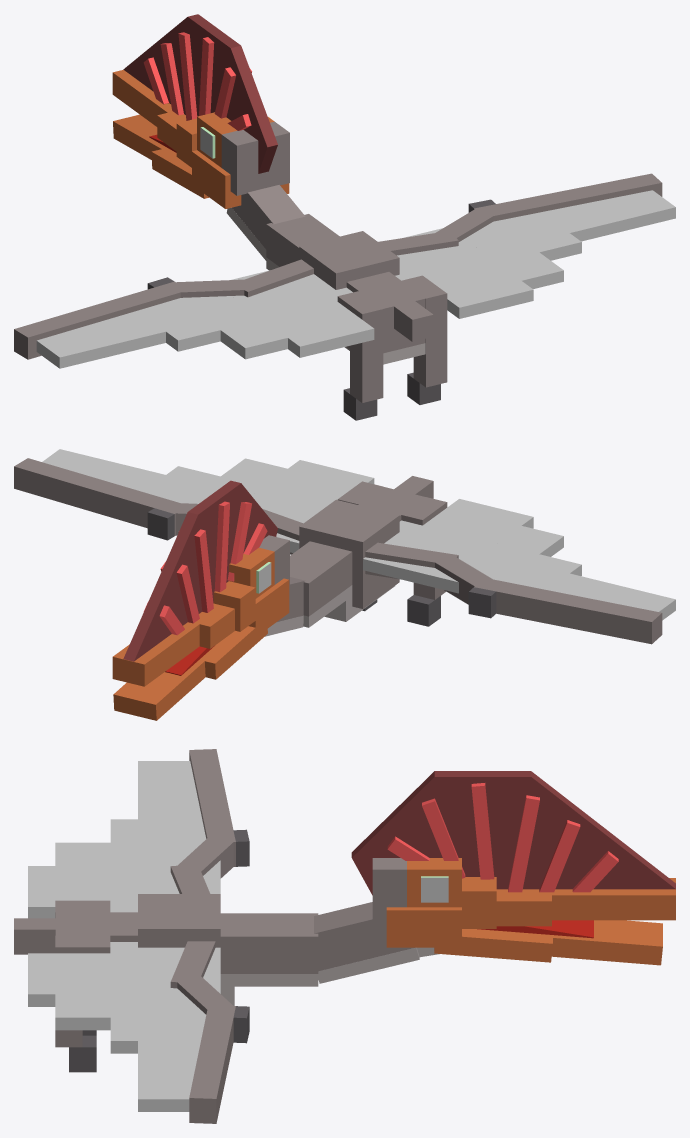
Rendered from azhdarcho.obj.
3 renders of one model, top to bottom at view 1: azimuth 30°, elevation 25°; view 2: azimuth 150°, elevation 25°; view 3: azimuth 270°, elevation 25°, orthographic. The views are drawn at different scales.
Parts seen in each view (by area): view 1: Head, LeftUpperArm, RightUpperArm, LeftUpperLeg, UpperTorso, RightUpperLeg, LowerTorso, Tail; view 2: Head, LeftUpperArm, RightUpperArm, UpperTorso, LeftUpperLeg, LowerTorso, RightUpperLeg, Tail; view 3: Head, RightUpperArm, LeftUpperArm, UpperTorso, RightUpperLeg, LowerTorso, Tail, LeftUpperLeg, Head_decal1.
Part boxes in pixels (x1=…): Head: x1=112, y1=14, x2=339, y2=270; LeftUpperArm: x1=14, y1=259, x2=374, y2=368; RightUpperArm: x1=378, y1=173, x2=675, y2=318; LeftUpperLeg: x1=337, y1=291, x2=383, y2=420; UpperTorso: x1=299, y1=231, x2=399, y2=350; RightUpperLeg: x1=402, y1=275, x2=447, y2=404; LowerTorso: x1=346, y1=272, x2=425, y2=364; Tail: x1=394, y1=301, x2=433, y2=341; Head: x1=112, y1=480, x2=352, y2=720; LeftUpperArm: x1=363, y1=499, x2=675, y2=644; RightUpperArm: x1=14, y1=449, x2=374, y2=554; UpperTorso: x1=299, y1=499, x2=399, y2=621; LeftUpperLeg: x1=401, y1=497, x2=447, y2=626; LowerTorso: x1=358, y1=486, x2=425, y2=521; RightUpperLeg: x1=337, y1=481, x2=382, y2=611; Tail: x1=394, y1=476, x2=433, y2=498; Head: x1=220, y1=771, x2=675, y2=986; RightUpperArm: x1=28, y1=941, x2=249, y2=1123; LeftUpperArm: x1=28, y1=749, x2=249, y2=918; UpperTorso: x1=138, y1=894, x2=234, y2=1005; RightUpperLeg: x1=55, y1=935, x2=110, y2=1072; LowerTorso: x1=55, y1=912, x2=137, y2=941; Tail: x1=14, y1=918, x2=55, y2=954; LeftUpperLeg: x1=55, y1=900, x2=110, y2=1035; Head_decal1: x1=421, y1=877, x2=448, y2=902.
Bounding box in the file's own units: 25.52 × 9.35 × 20.4.
